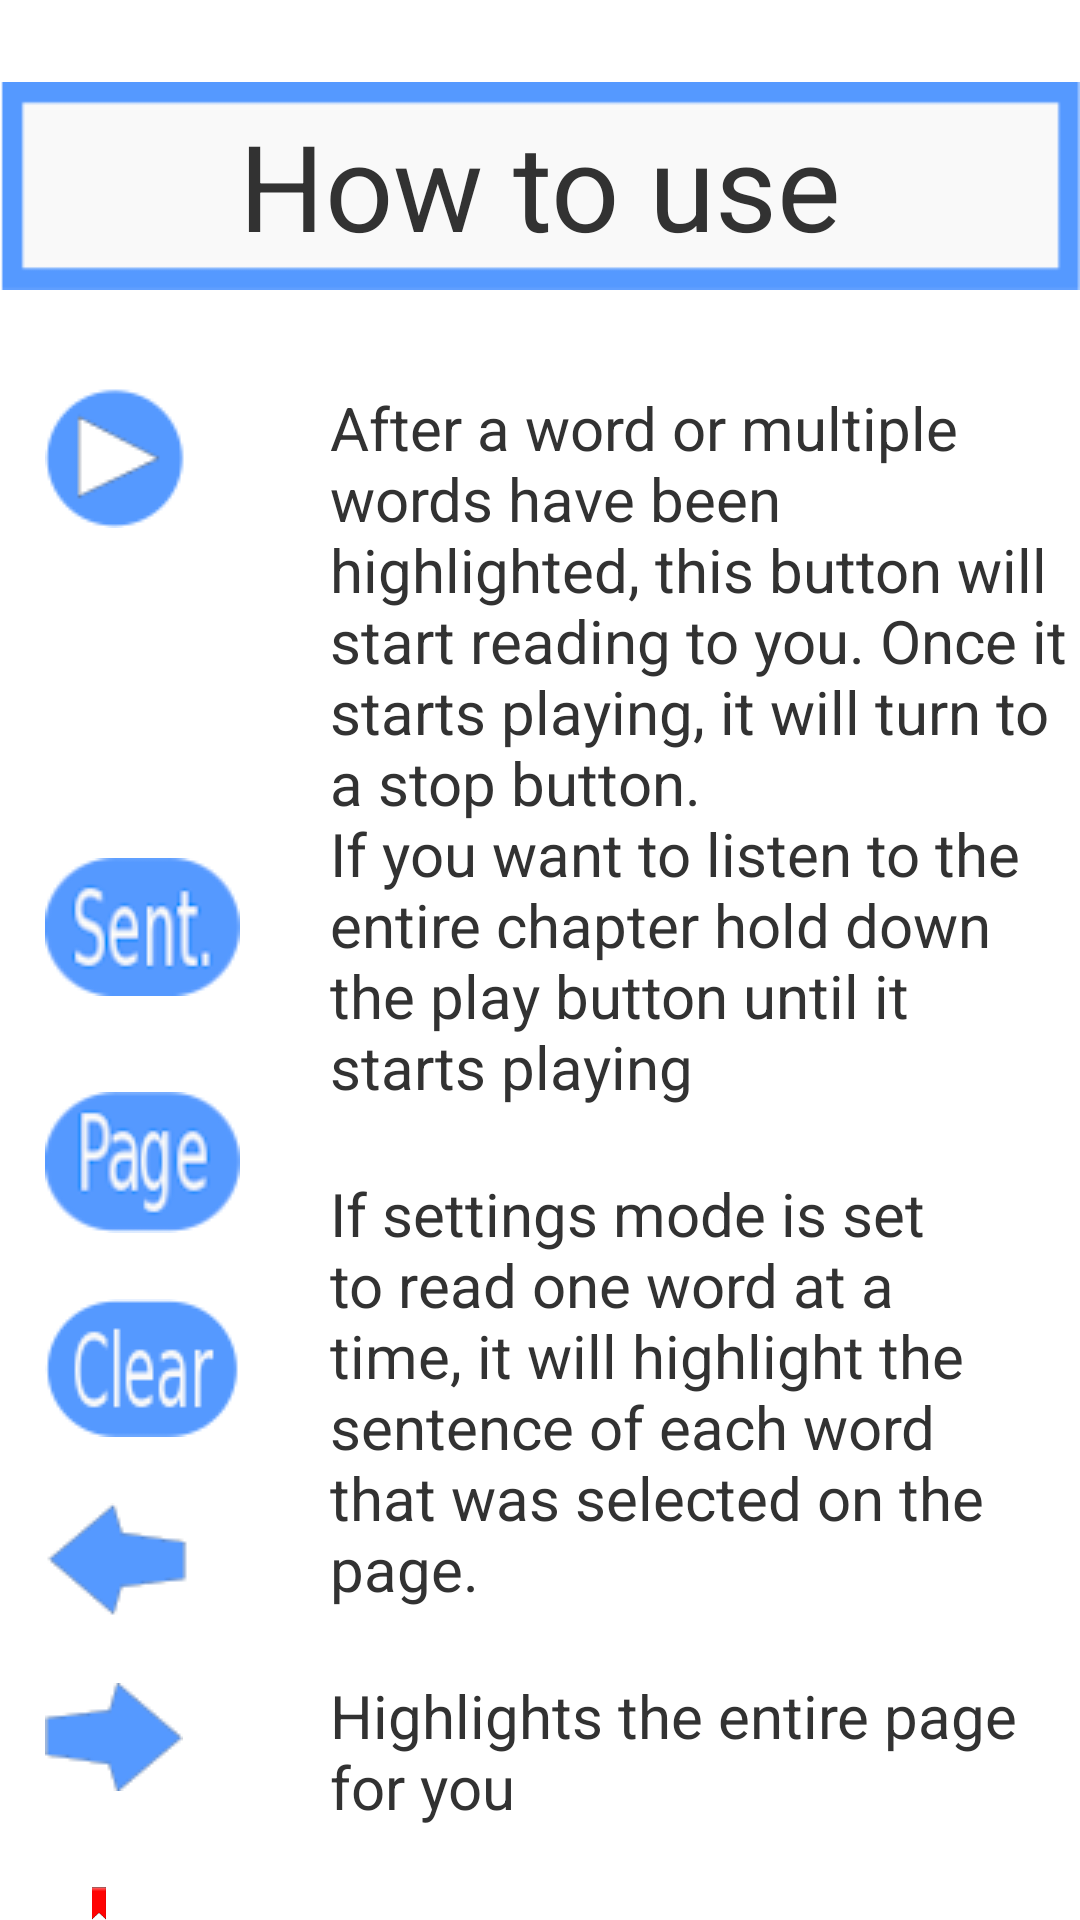

Where icons sit on this 1080x1920 app screen, as (x1, y1, x2, y2):
image bookmark button description: (92, 1887, 106, 1920)
image play button description: (45, 389, 184, 528)
image turn back page button description: (48, 1505, 187, 1615)
image turn page button description: (45, 1683, 183, 1791)
